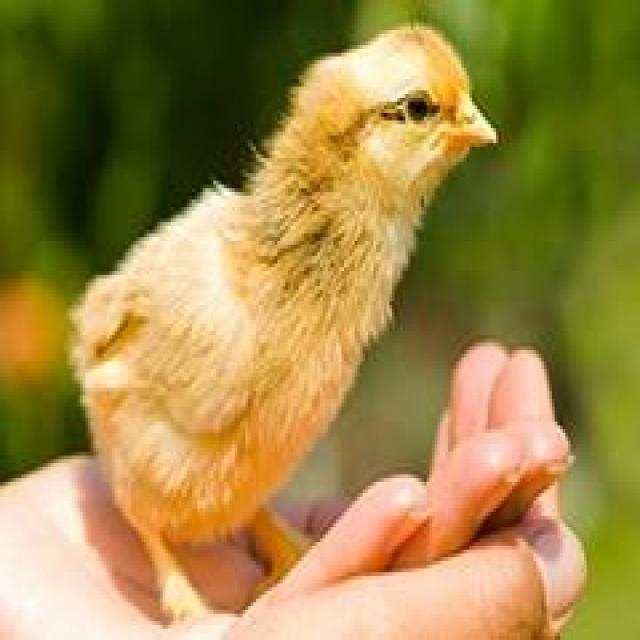poussin: (61, 24, 506, 616)
